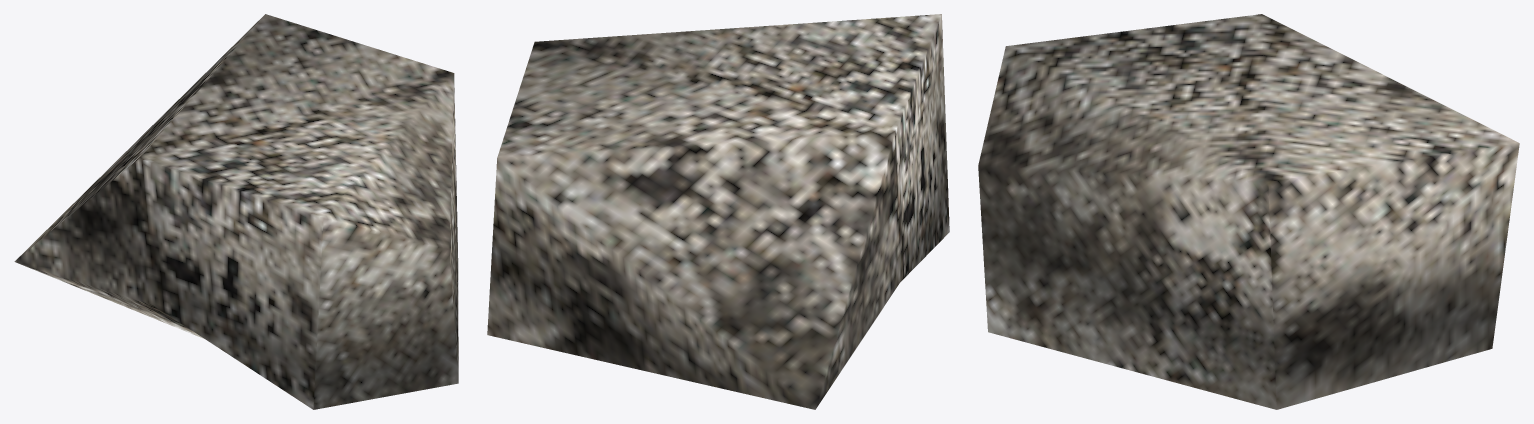
Rendered from Debris1_8_LOD1.fbx.
3 views of the same model, side by side, from view 1: azimuth 30°, elevation 25°; view 2: azimuth 150°, elevation 25°; view 3: azimuth 270°, elevation 25° (orthographic). The views are drawn at different scales.
Parts seen in each view (by area): view 1: polySurface28; view 2: polySurface28; view 3: polySurface28.
Part boxes in pixels (x1,y1,x2,y2): polySurface28: (14, 14, 458, 409); polySurface28: (487, 14, 949, 409); polySurface28: (978, 14, 1519, 409).
Bounding box in the file's own units: 0.97 × 0.5227 × 1.14.
